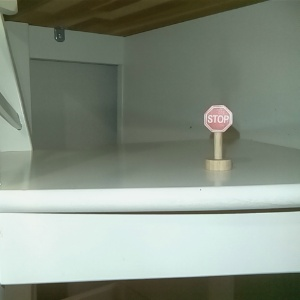stop sign: (202, 103, 234, 171)
